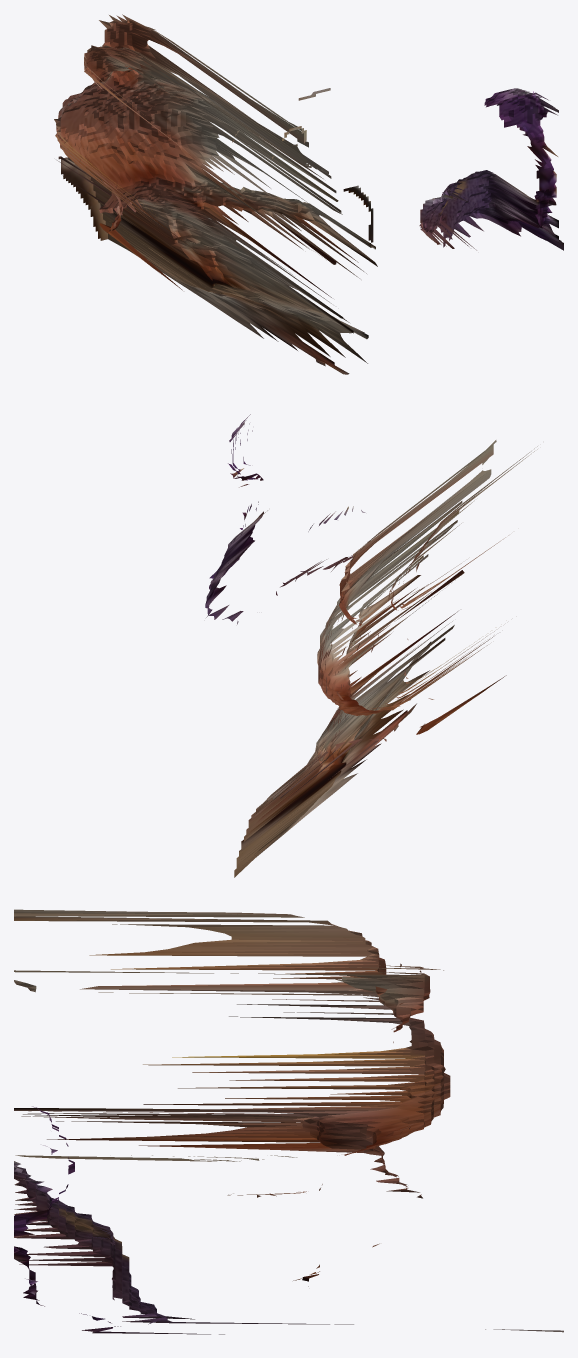
The model's file is frame_00322.glb.
The picture shows the model from 3 angles, top to bottom: view 1: azimuth 30°, elevation 25°; view 2: azimuth 150°, elevation 25°; view 3: azimuth 270°, elevation 25°; orthographic projection. The views are drawn at different scales.
Parts seen in each view (by area): view 1: geometry_0; view 2: geometry_0; view 3: geometry_0.
Boxes of the visible parts, left/top/right/bottom form: geometry_0: left=54, top=14, right=563, bottom=374; geometry_0: left=205, top=414, right=537, bottom=877; geometry_0: left=14, top=909, right=563, bottom=1334.
Bounding box in the file's own units: 0.1357 × 0.1154 × 0.16.
1 material, 1 textured.
